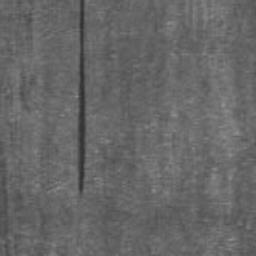Scratches: (78, 0, 86, 198)
